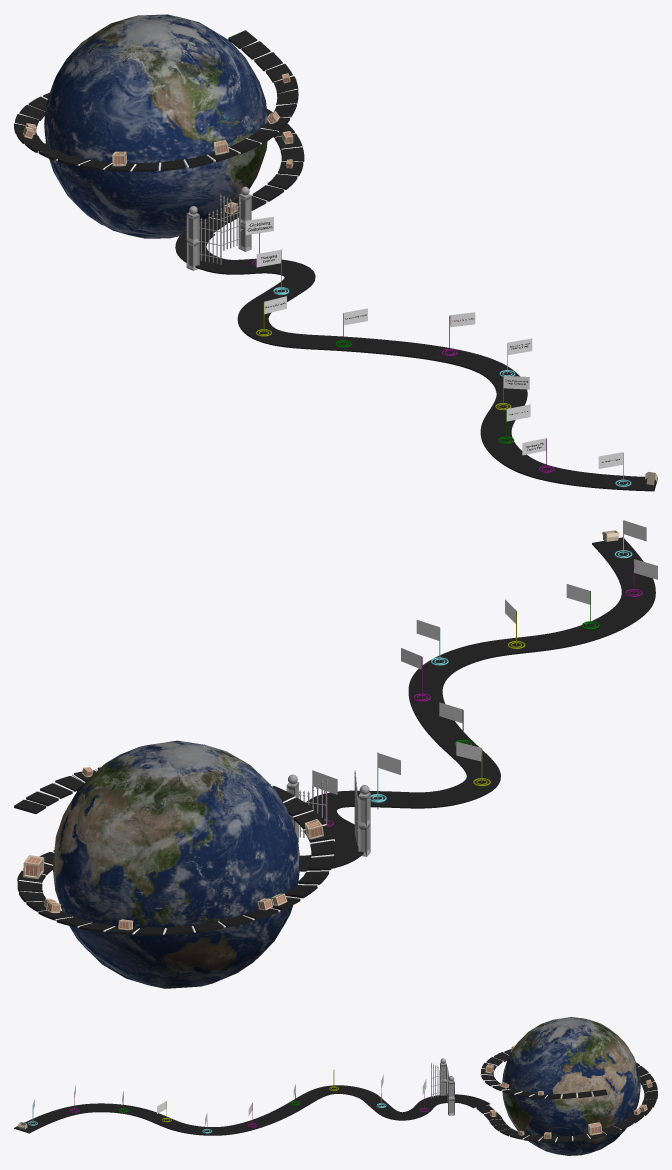
File: mainchain.glb
3 views of the same model, one above another, from view 1: azimuth 30°, elevation 25°; view 2: azimuth 150°, elevation 25°; view 3: azimuth 270°, elevation 25° (orthographic). The views are drawn at different scales.
Parts seen in each view (by area): view 1: Earth, road2, Box008, Box001__0; view 2: Earth, road2, Box008; view 3: Earth, road2, Box001__0, Box008.
Part boxes in pixels (x1,y1,x2,y2): Earth: (44,14,267,238); road2: (175,229,657,491); Box008: (186,212,199,270); Box001__0: (238,193,251,251); Earth: (52,740,300,988); road2: (299,537,655,871); Box008: (358,792,370,856); Earth: (502,1017,640,1155); road2: (14,1085,489,1135); Box001__0: (448,1080,454,1115); Box008: (440,1062,446,1095).
Bounding box in the file's own units: 3.94 × 3.04 × 14.1.
Materials: 15 (1 with a texture image).
